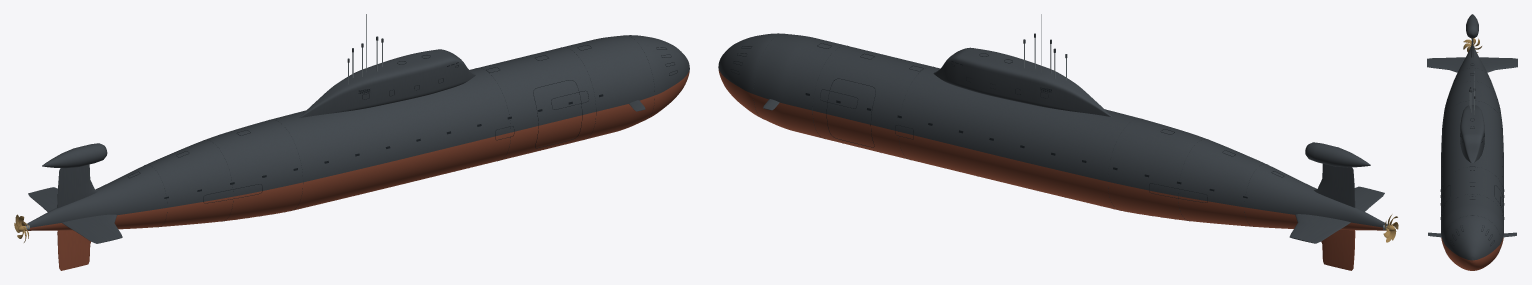
File: RU_SSN_Akula_LOD1.fbx
The picture shows the model from 3 angles, left to right: view 1: azimuth 30°, elevation 25°; view 2: azimuth 150°, elevation 25°; view 3: azimuth 270°, elevation 25°; orthographic projection. The views are drawn at different scales.
Parts seen in each view (by area): view 1: RU_SSN_Akula_LOD1; view 2: RU_SSN_Akula_LOD1; view 3: RU_SSN_Akula_LOD1.
Part boxes in pixels (x1,y1,x2,y2): RU_SSN_Akula_LOD1: (14, 14, 689, 270); RU_SSN_Akula_LOD1: (718, 14, 1398, 270); RU_SSN_Akula_LOD1: (1427, 14, 1517, 270).
Size of the model in its own units: 110 by 19.6 by 28.44.
